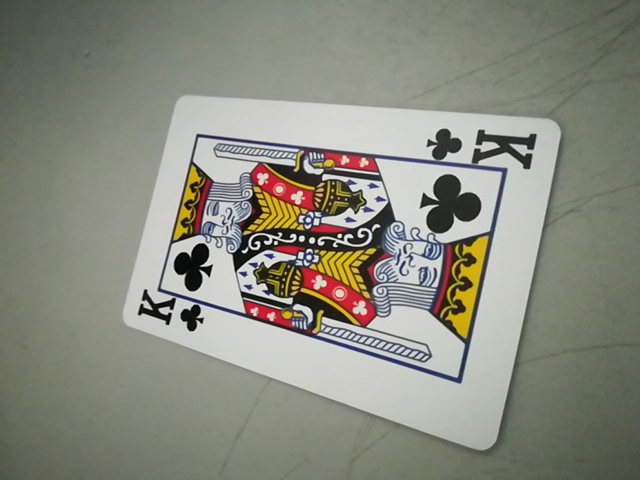mh k: (426, 123, 541, 171), (130, 291, 208, 335)
